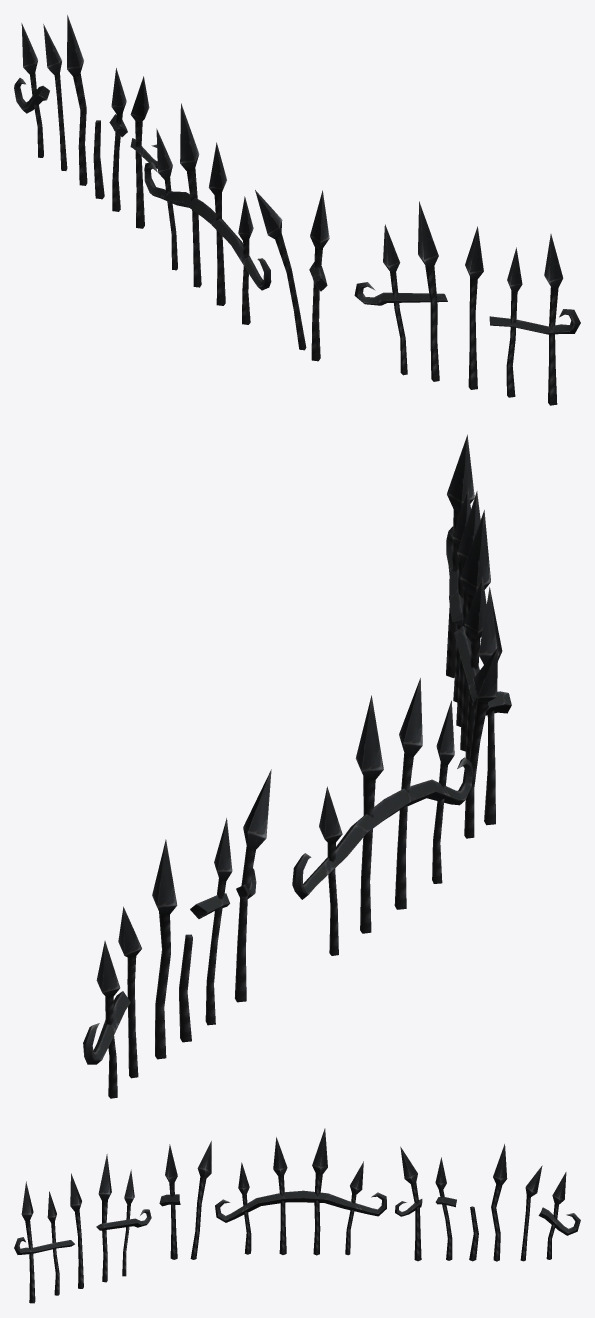
Rendered from mesh_raid3_fence4.FBX.
3 renders of one model, top to bottom at view 1: azimuth 30°, elevation 25°; view 2: azimuth 150°, elevation 25°; view 3: azimuth 270°, elevation 25°, orthographic. The views are drawn at different scales.
Visible parts, largest first — view 1: mesh_raid3_fence4; view 2: mesh_raid3_fence4; view 3: mesh_raid3_fence4.
Boxes of the visible parts, bbox=[...] form: mesh_raid3_fence4: bbox=[14, 15, 580, 405]; mesh_raid3_fence4: bbox=[83, 434, 511, 1098]; mesh_raid3_fence4: bbox=[14, 1128, 580, 1303].
Size of the model in its own units: 4.01 by 3.85 by 16.07.
